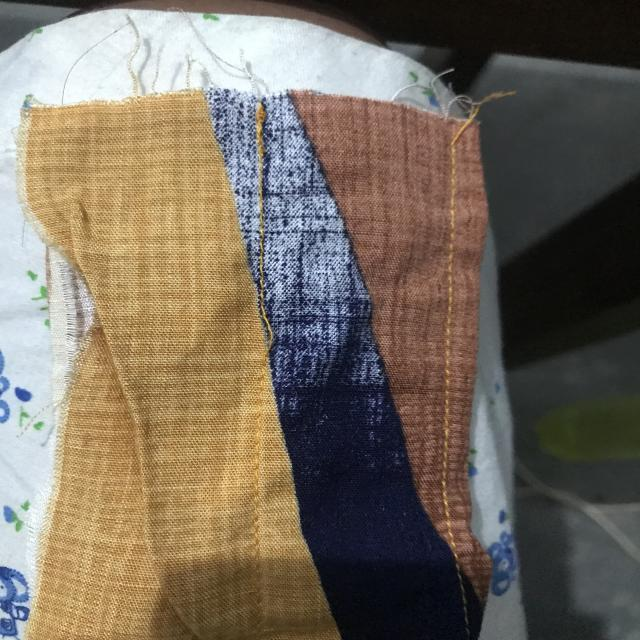good: (442, 290, 458, 388)
skip: (250, 298, 290, 374)
